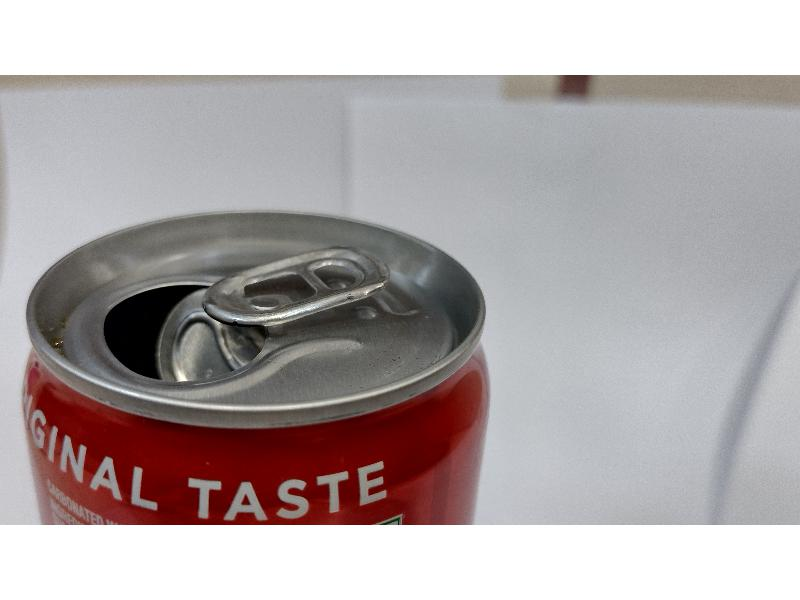can: (13, 190, 498, 523)
